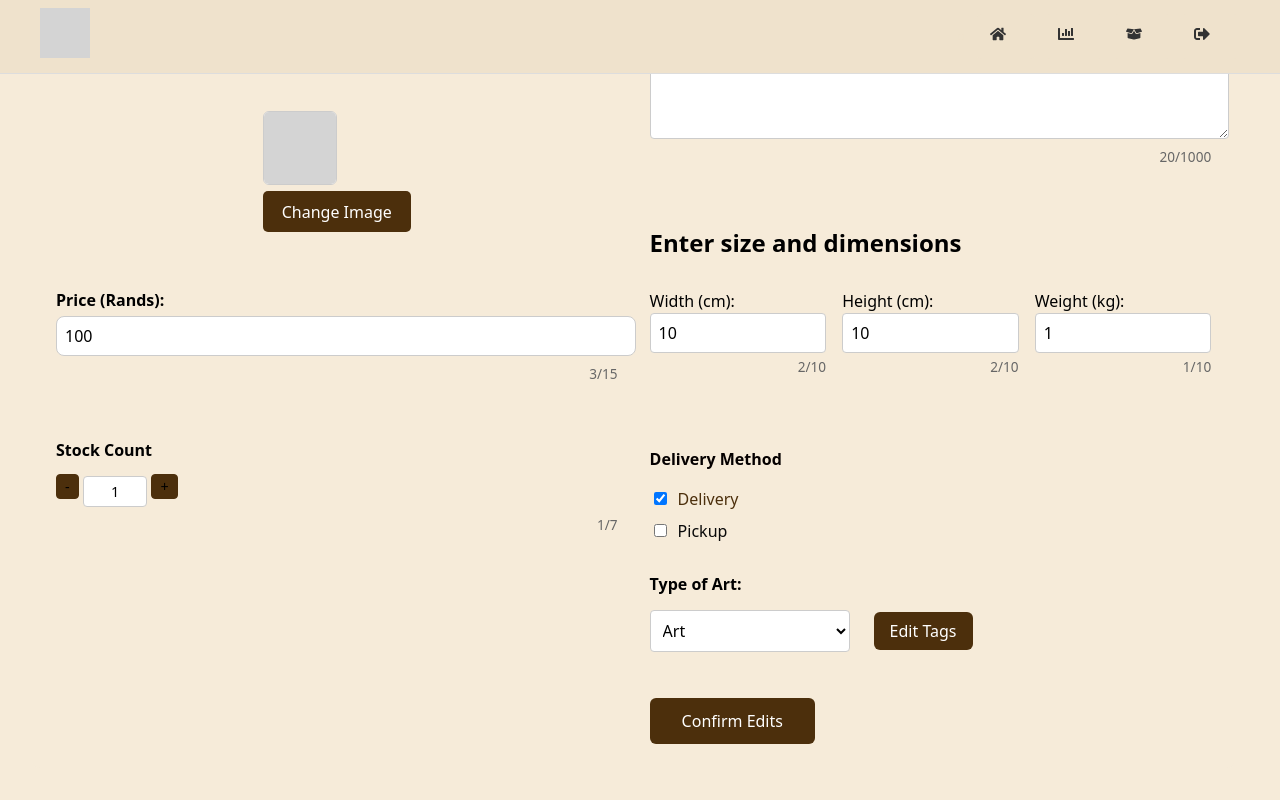
Test: EditProductPage Functional Tests › remove button removes tag
The width and height of the screenshot is (1280, 800).
(page scrolled)
Click the button "Edit Tags". click: x=923, y=631
box: [874,612,972,650]
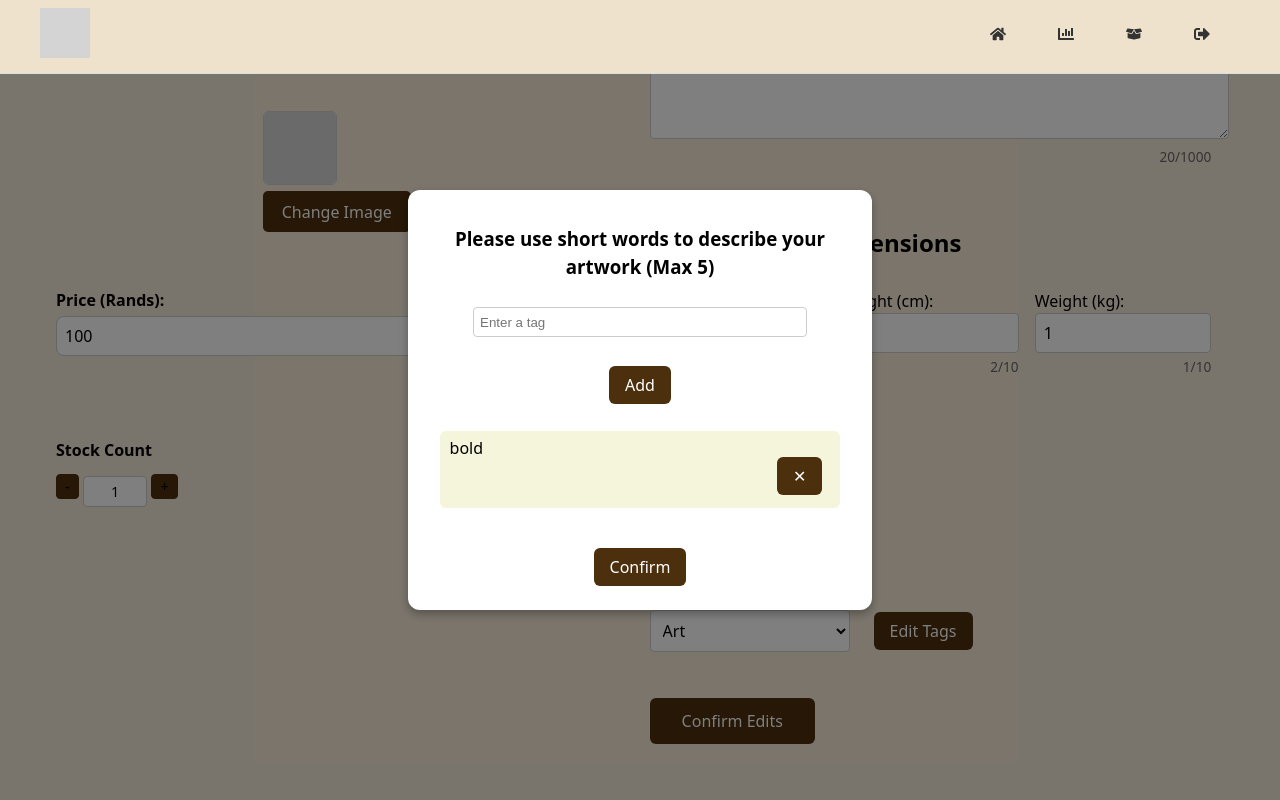
Type "minimal" into the field with placeholder "Enter a tag". click: x=640, y=322
box: [473,307,807,337]
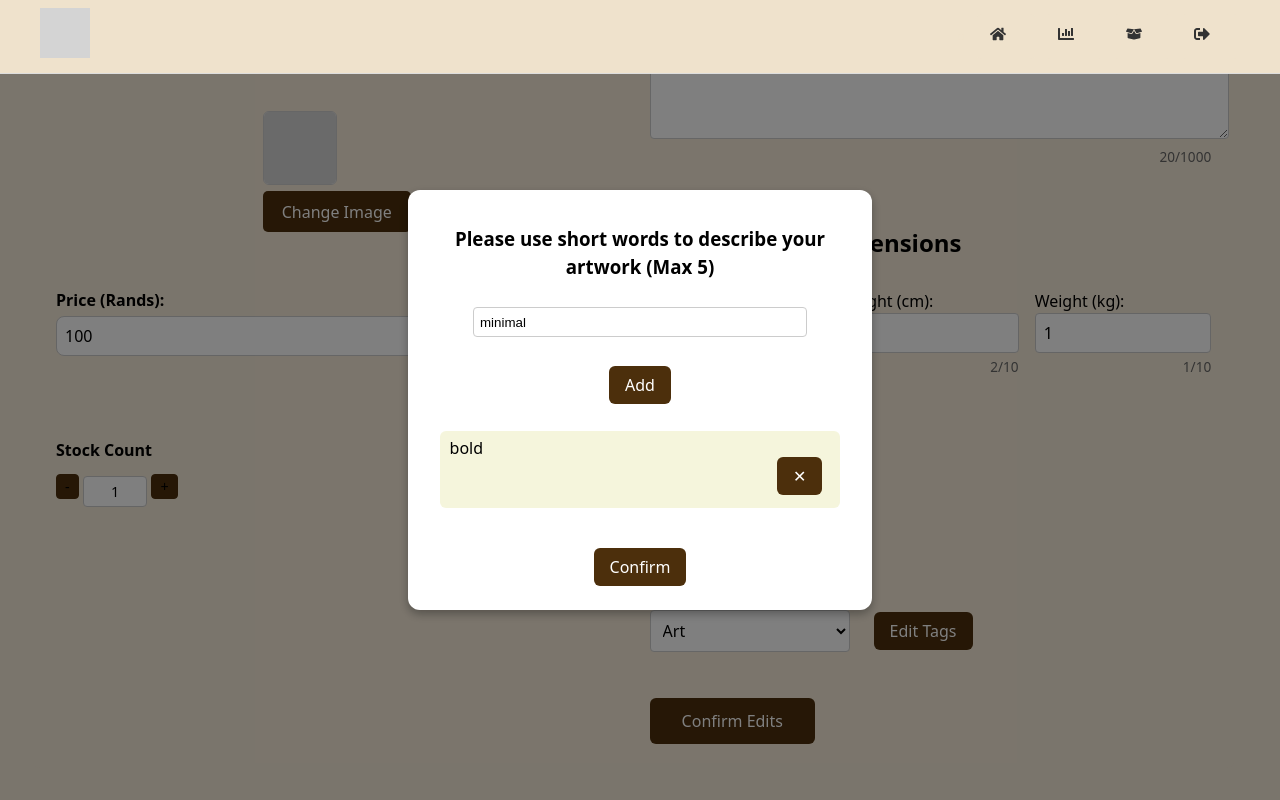
Click the button "Add". click: x=640, y=385
box: [609,366,671,404]
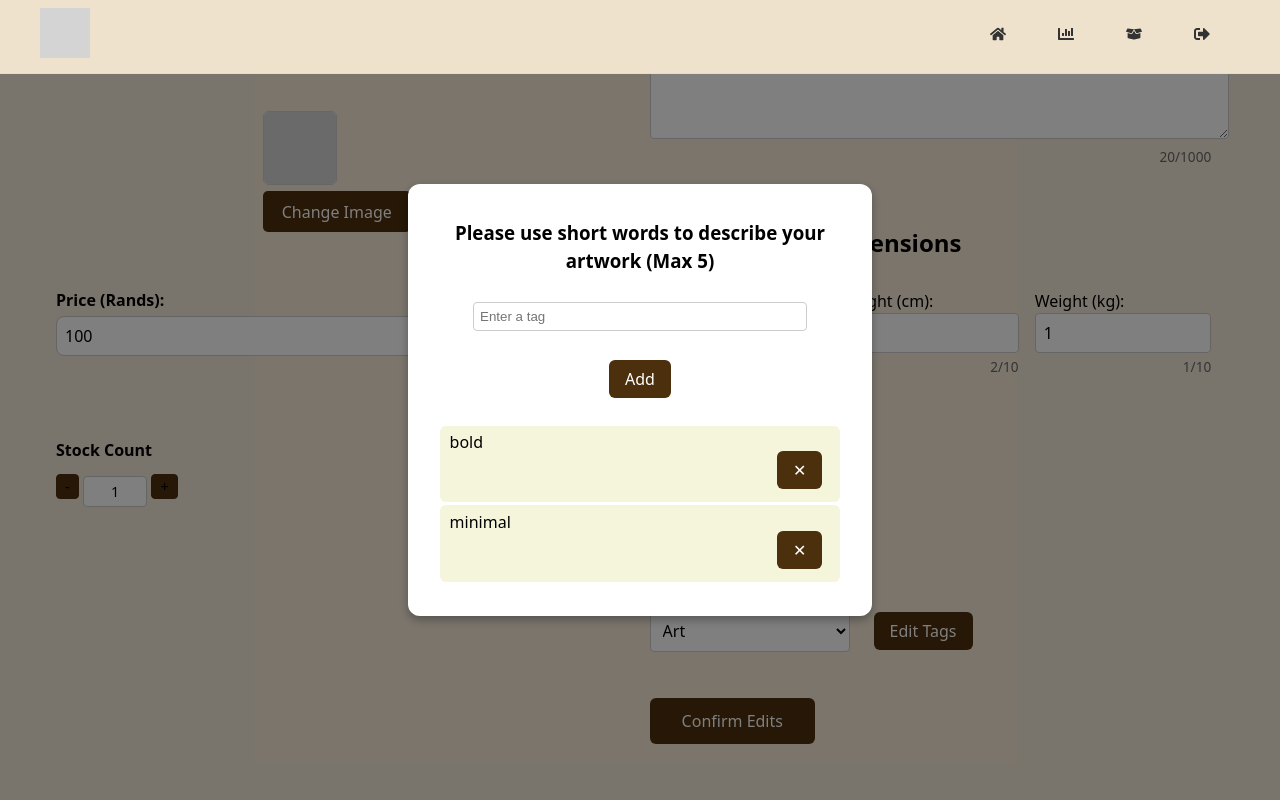
Check: the list item "minimal" is shown, box [450,511,511,533]
Click the button named "remove-minimal". click: x=800, y=550
box: [777,531,822,569]
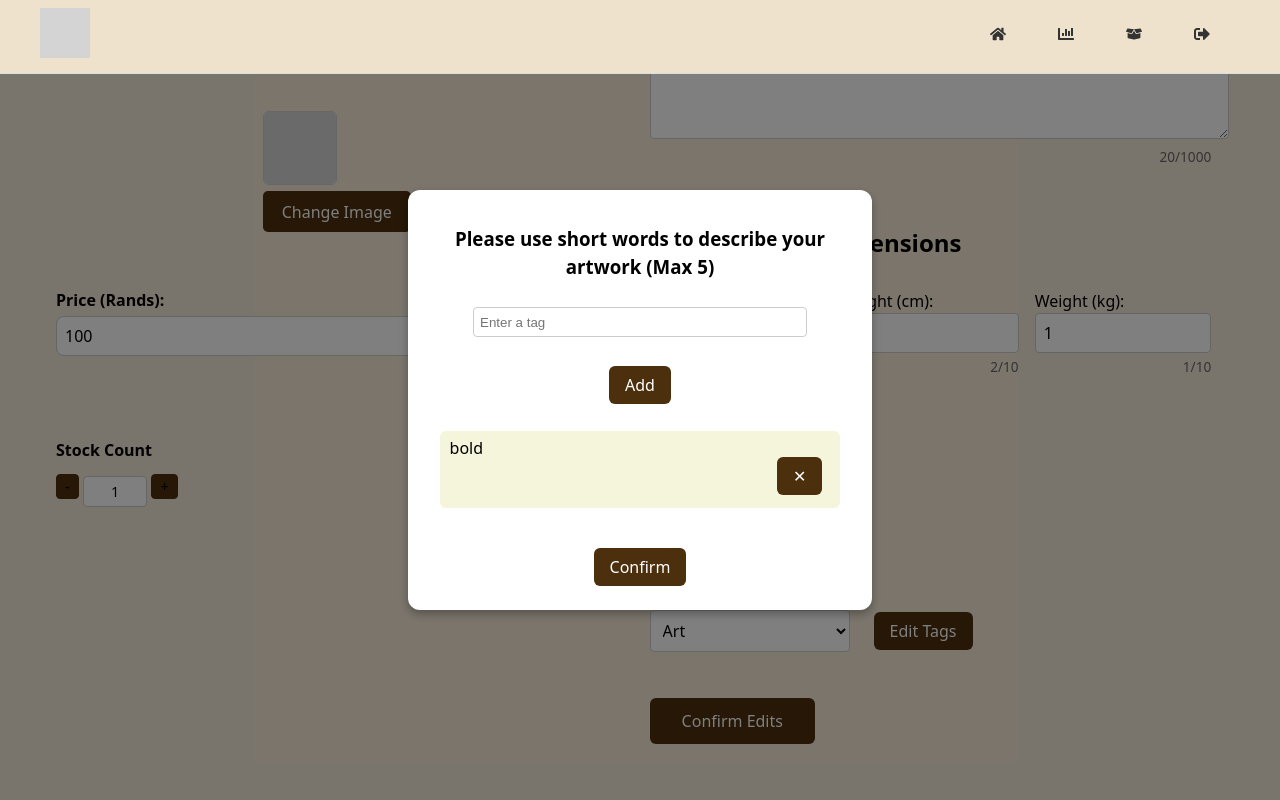
Check: the list item "minimal" is gone
